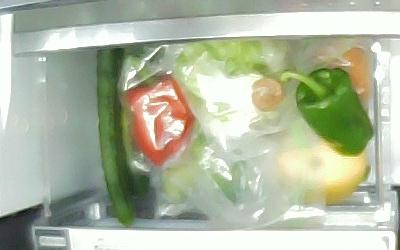broccoli_vinyl: (161, 135, 239, 209)
cucumber: (96, 47, 135, 228)
cucumber_vinyl: (118, 47, 150, 201)
grapefruit_vinyl: (272, 140, 365, 203)
lettuce_vinyl: (174, 40, 288, 137)
paprika: (279, 66, 374, 158)
paprika_vinyl: (125, 55, 196, 168)
